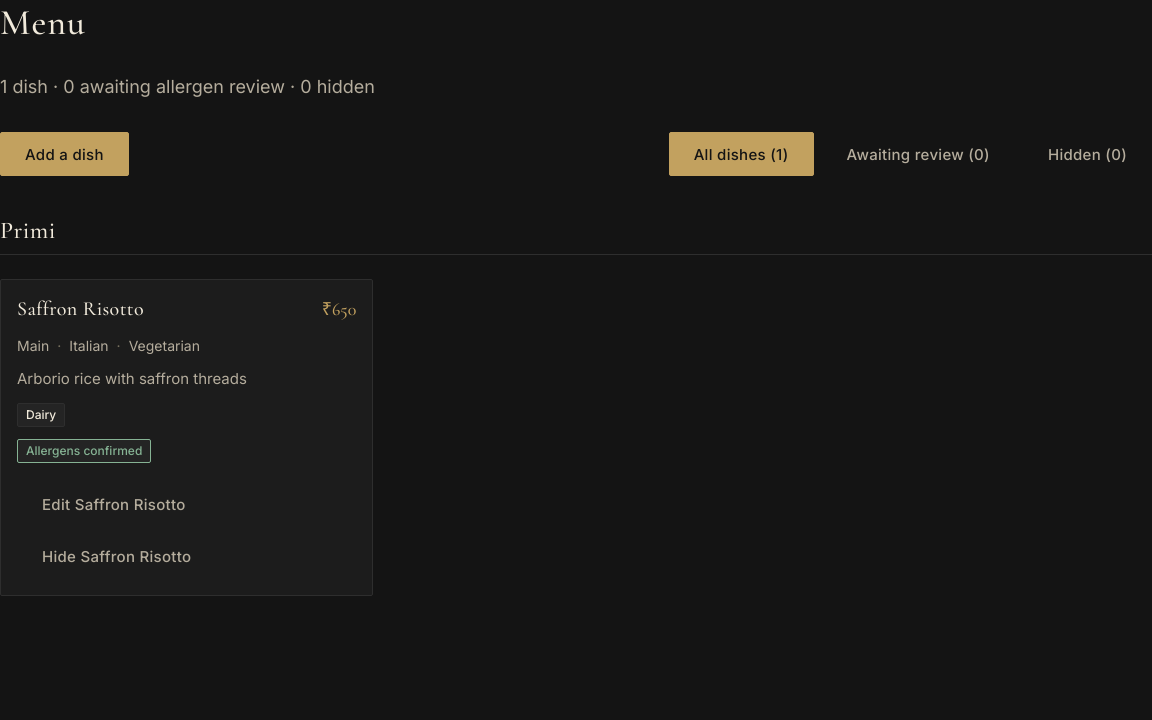
MenuManager page › 12. edit that changes allergens shows allergens-changed note
This screenshot has width=1152, height=720.
Expected: the heading "Saffron Risotto" is shown, [17,297,144,322]
Click the button "Edit Saffron Risotto" at (114, 504), box [17,482,210,526]
(page scrolled)
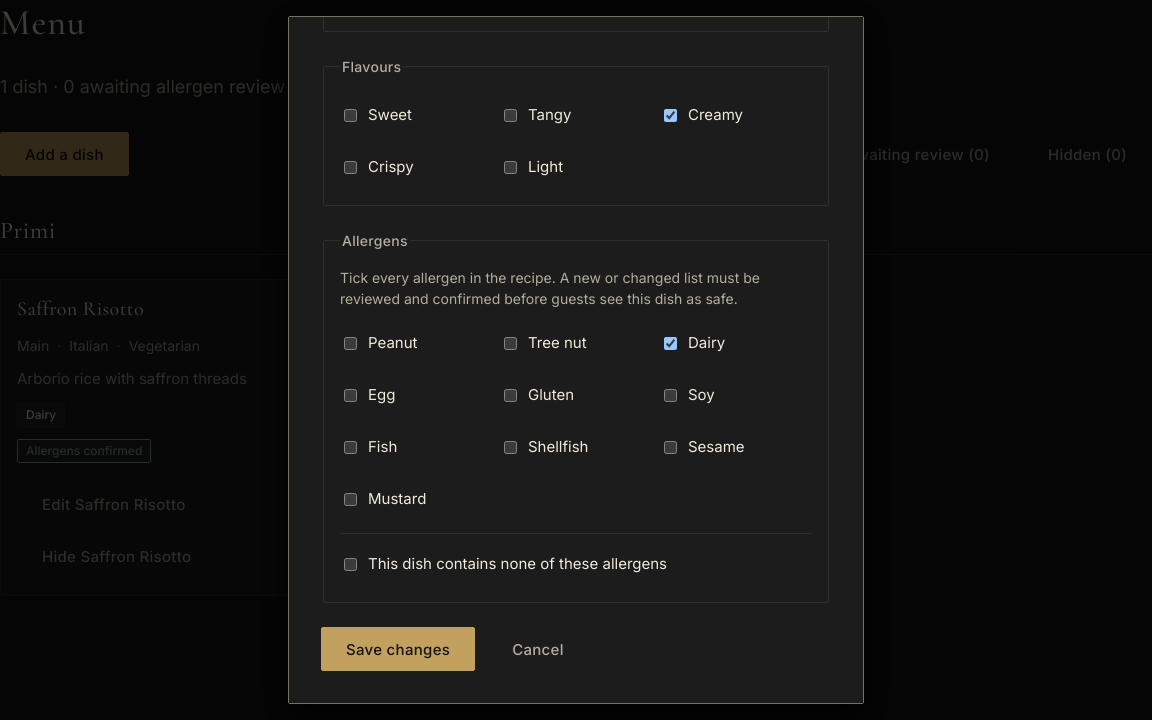
Click the checkbox labelled "Gluten" at (510, 395), box [504,388,517,402]
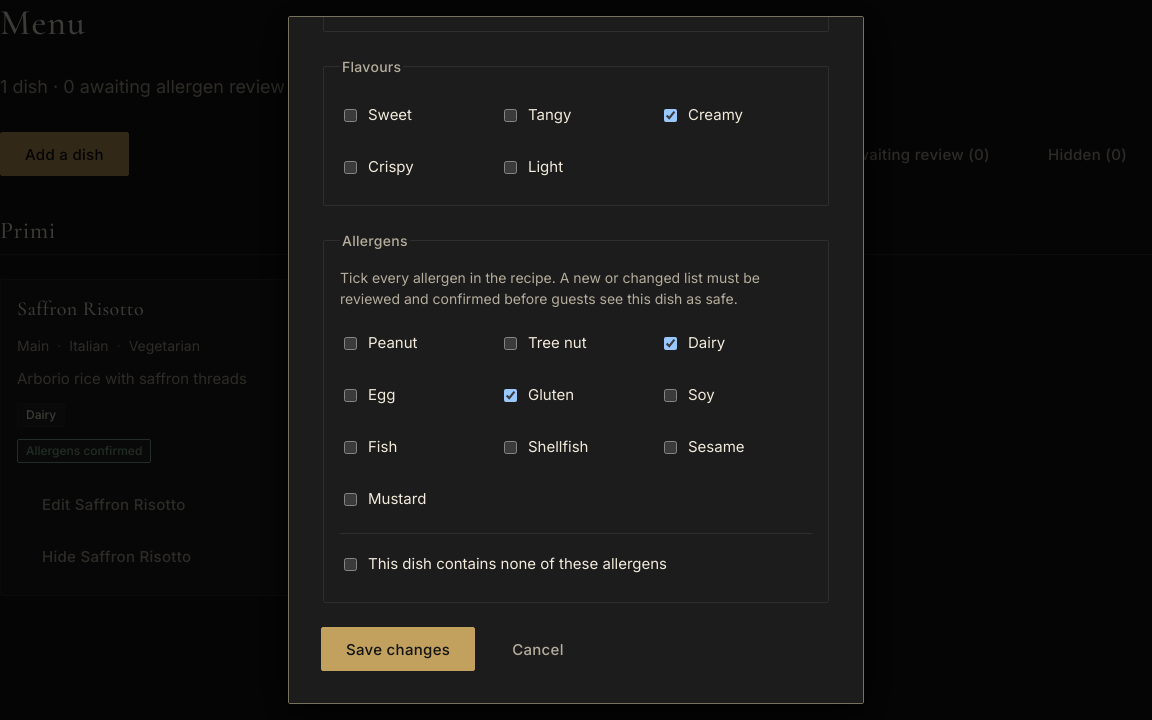
Click the button "Save changes" at (398, 649), box [321,627,475,671]
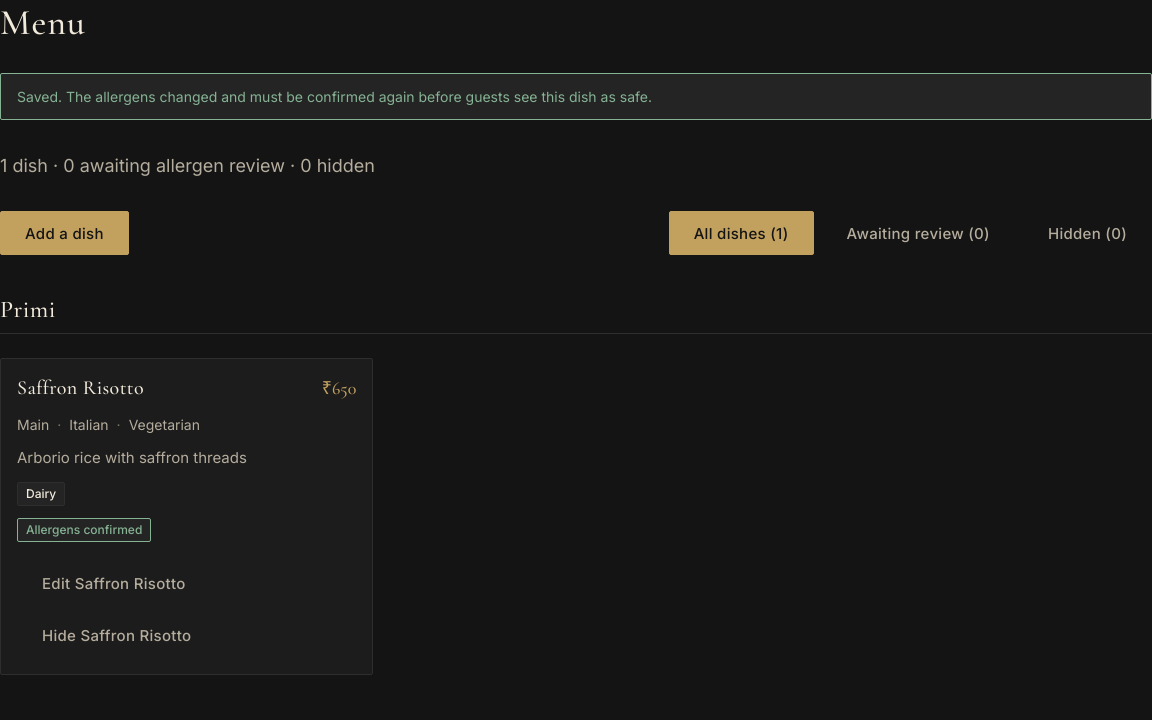
Expected: the text "Saved. The allergens changed and must be confirmed again before guests see this dish as safe." is shown, [17,88,652,105]
